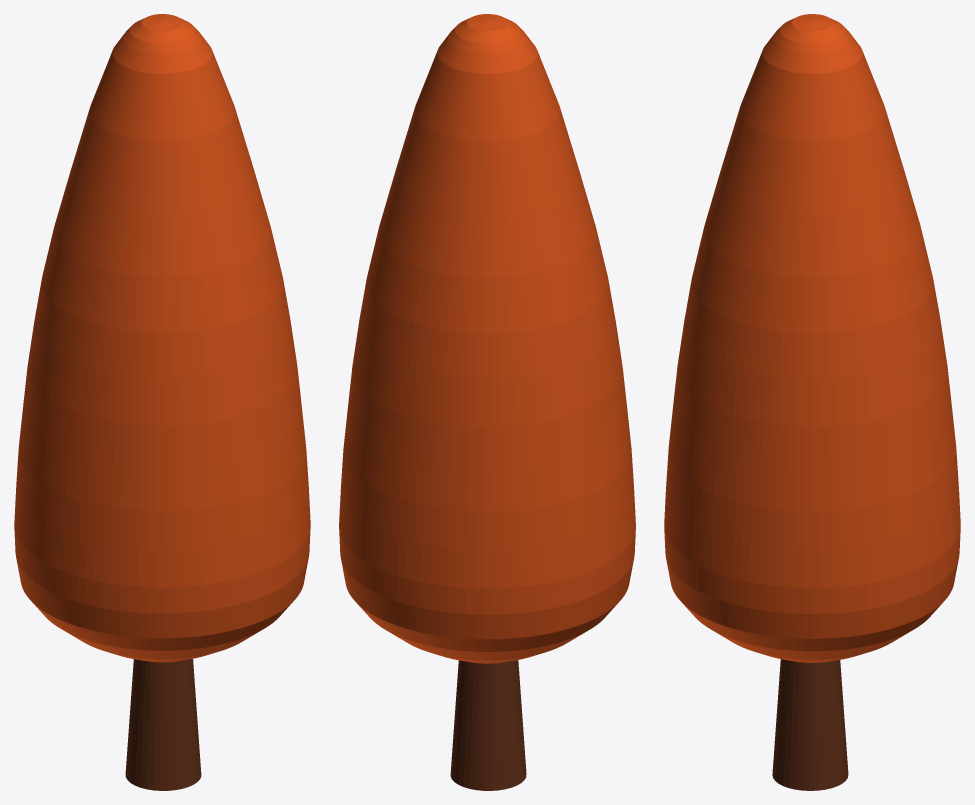
Rendered from arbre_005.fbx.
3 renders of one model, left to right at view 1: azimuth 30°, elevation 25°; view 2: azimuth 150°, elevation 25°; view 3: azimuth 270°, elevation 25°, orthographic.
Visible parts, largest first — view 1: arbre_feuilles_001, arbre_tronc_001; view 2: arbre_feuilles_001, arbre_tronc_001; view 3: arbre_feuilles_001, arbre_tronc_001.
Part boxes in pixels (<box>): arbre_feuilles_001: <box>14,14,310,662</box>; arbre_tronc_001: <box>125,659,201,790</box>; arbre_feuilles_001: <box>339,14,635,663</box>; arbre_tronc_001: <box>450,660,526,790</box>; arbre_feuilles_001: <box>664,14,960,662</box>; arbre_tronc_001: <box>772,659,848,790</box>.
Bounding box in the file's own units: 227 × 636 × 227.
